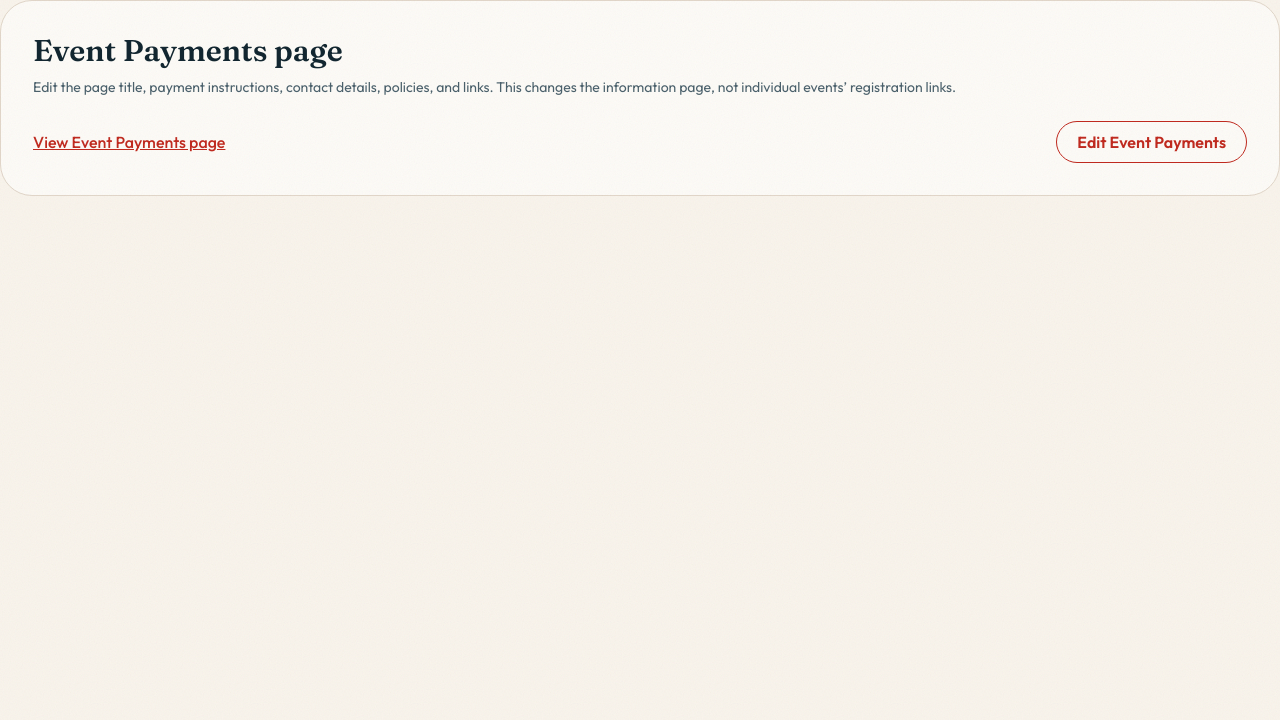
Scenario: Event Payments editor › loads existing content and cancels without saving
The width and height of the screenshot is (1280, 720).
Click the button "Edit Event Payments" at (1152, 142), box [1056,121,1247,163]
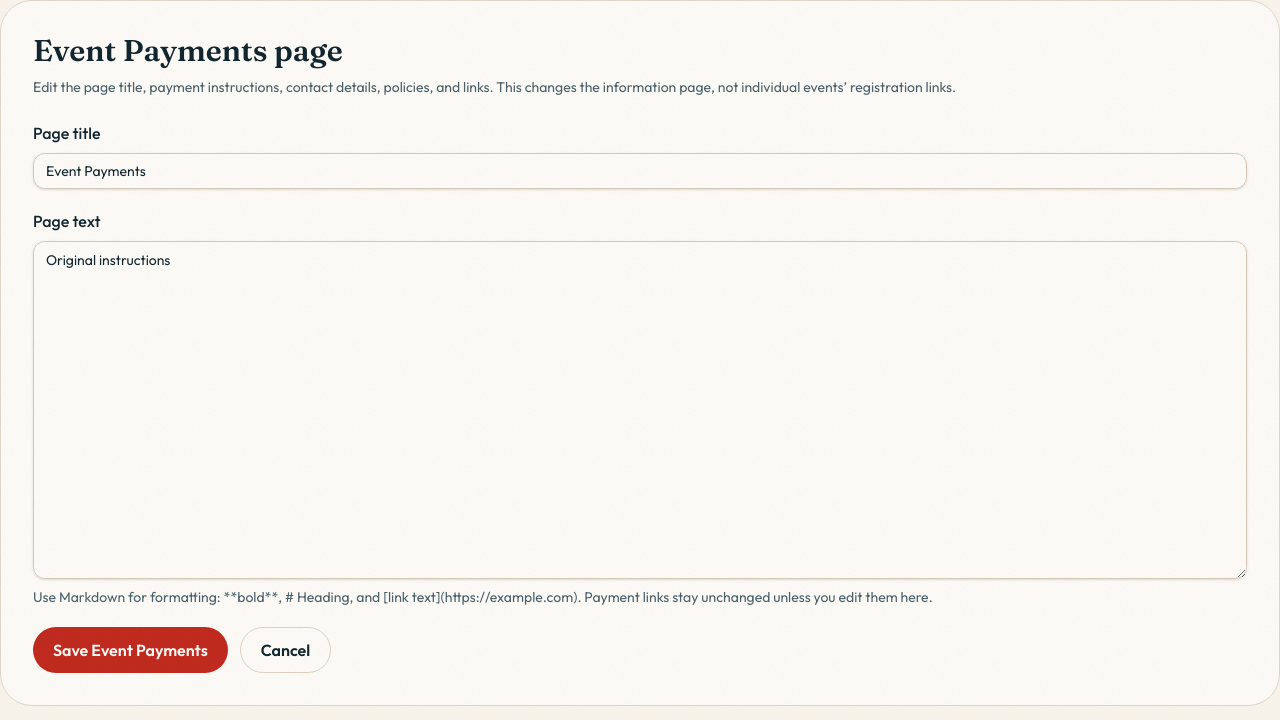
Now the field labelled "Page title" holds "Event Payments", box [33,153,1247,189]
Now the text box labelled "Page text" holds "Original instructions"
Replace the text in the text box labelled "Page text" with "Unsaved instructions" at (640, 410), box [33,241,1247,579]
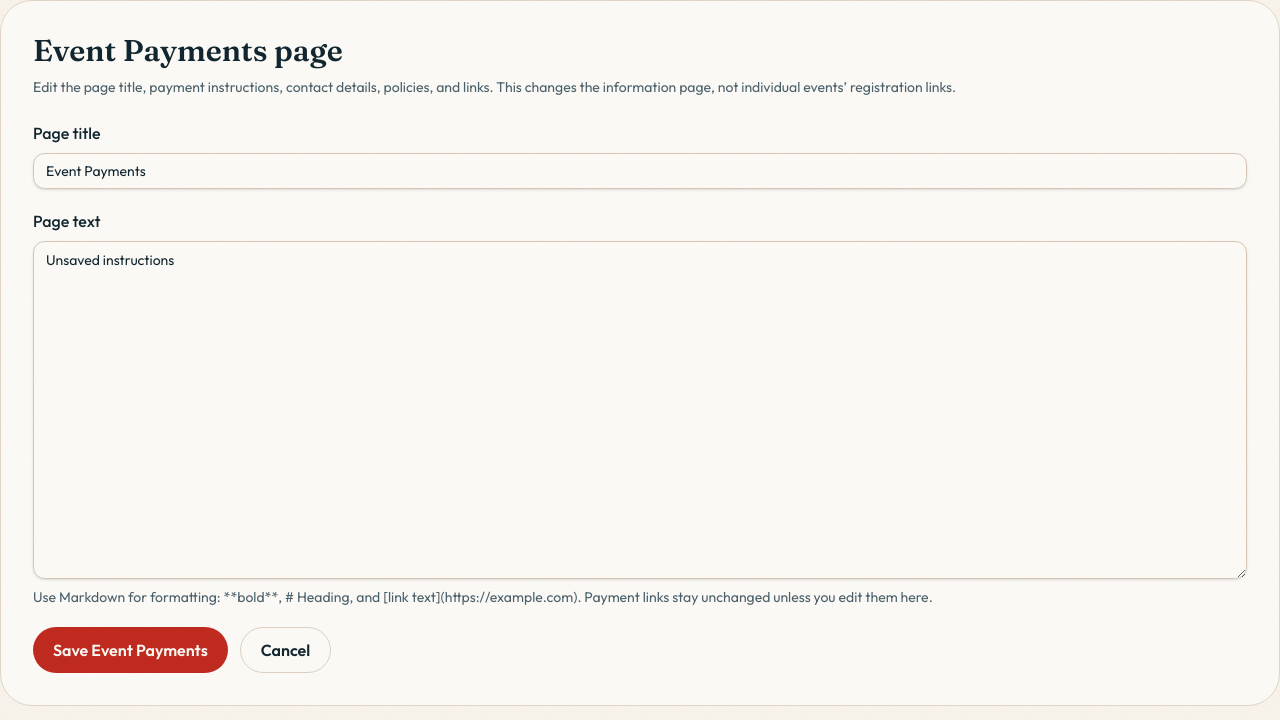
Click the button "Cancel" at (286, 650), box [240,627,331,673]
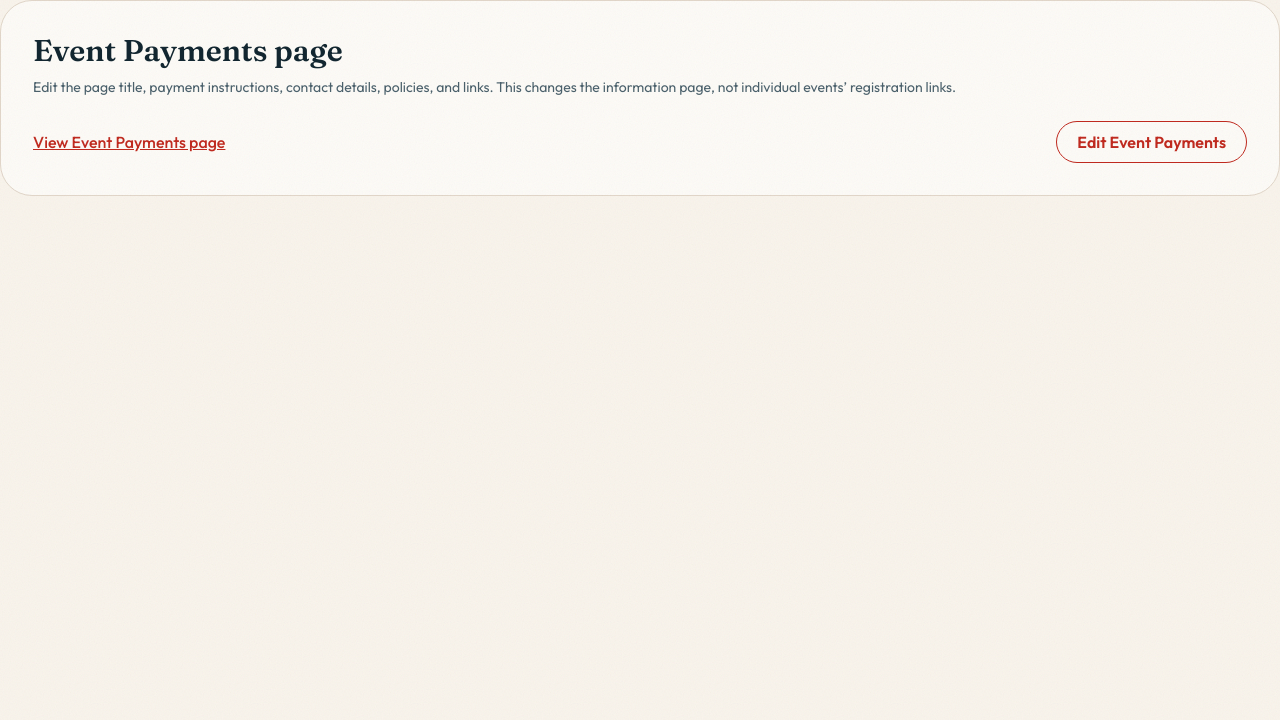
Now the label labelled "Page text" is gone
